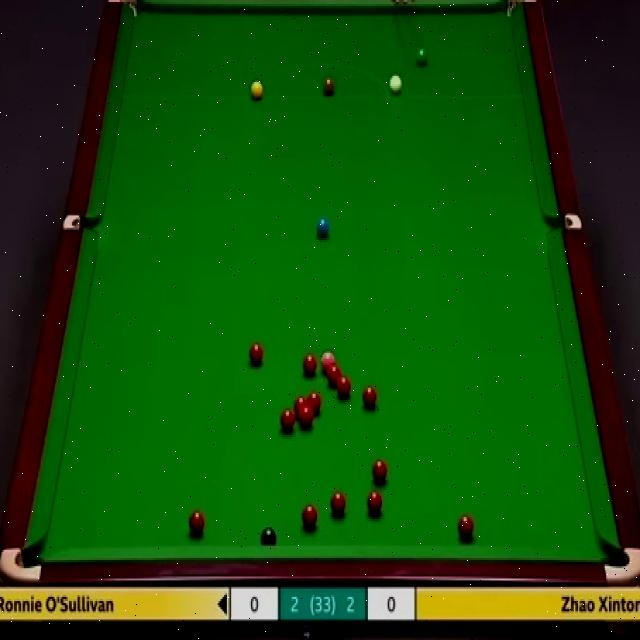black-ball: (260, 525, 277, 549)
blue-ball: (317, 218, 330, 238)
brown-ball: (322, 77, 334, 97)
green-ball: (415, 46, 430, 68)
pink-ball: (320, 348, 335, 372)
red-ball: (366, 488, 384, 517), (457, 513, 475, 541), (330, 489, 347, 516), (371, 458, 388, 485), (300, 505, 319, 529), (248, 340, 264, 367), (188, 509, 205, 534), (336, 376, 352, 402), (298, 403, 314, 428), (362, 385, 378, 409), (280, 408, 296, 431), (302, 352, 317, 376), (308, 390, 323, 414), (326, 365, 342, 384), (294, 396, 308, 414)
white-ball: (388, 72, 402, 95)
yellow-ball: (250, 78, 263, 100)
